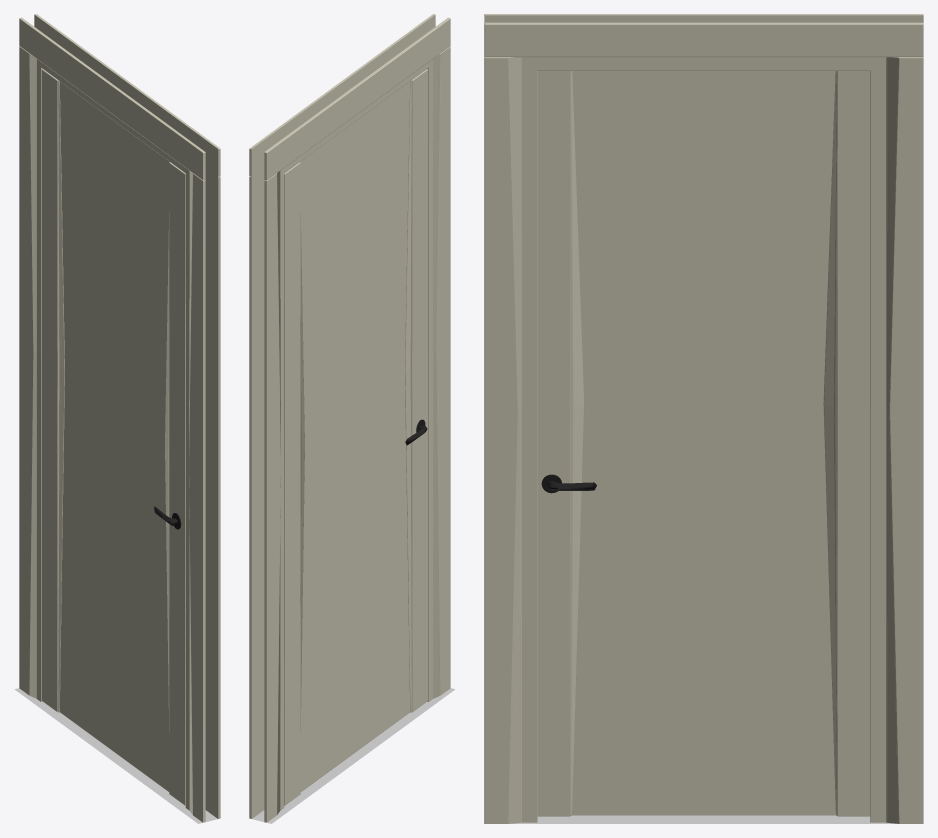
Rendered from door.fbx.
3 views of the same model, side by side, from view 1: azimuth 30°, elevation 25°; view 2: azimuth 150°, elevation 25°; view 3: azimuth 270°, elevation 25° (orthographic). The views are drawn at different scales.
Visible parts, largest first — view 1: door; view 2: door; view 3: door.
Boxes of the visible parts, x1,y1,x2,y2 form: door: (15,14,220,823); door: (249,14,454,823); door: (484,14,923,823).
Size of the model in its own units: 750 by 21500 by 10700.
